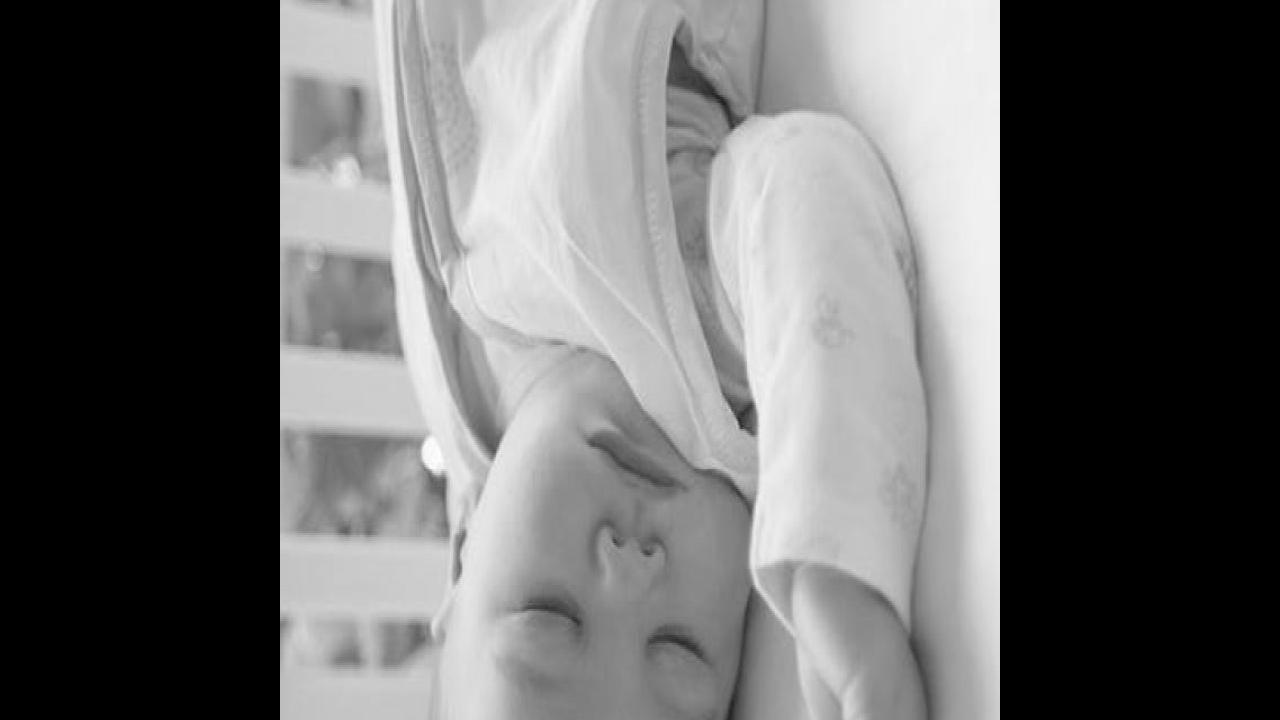hand: (790, 559, 931, 720)
